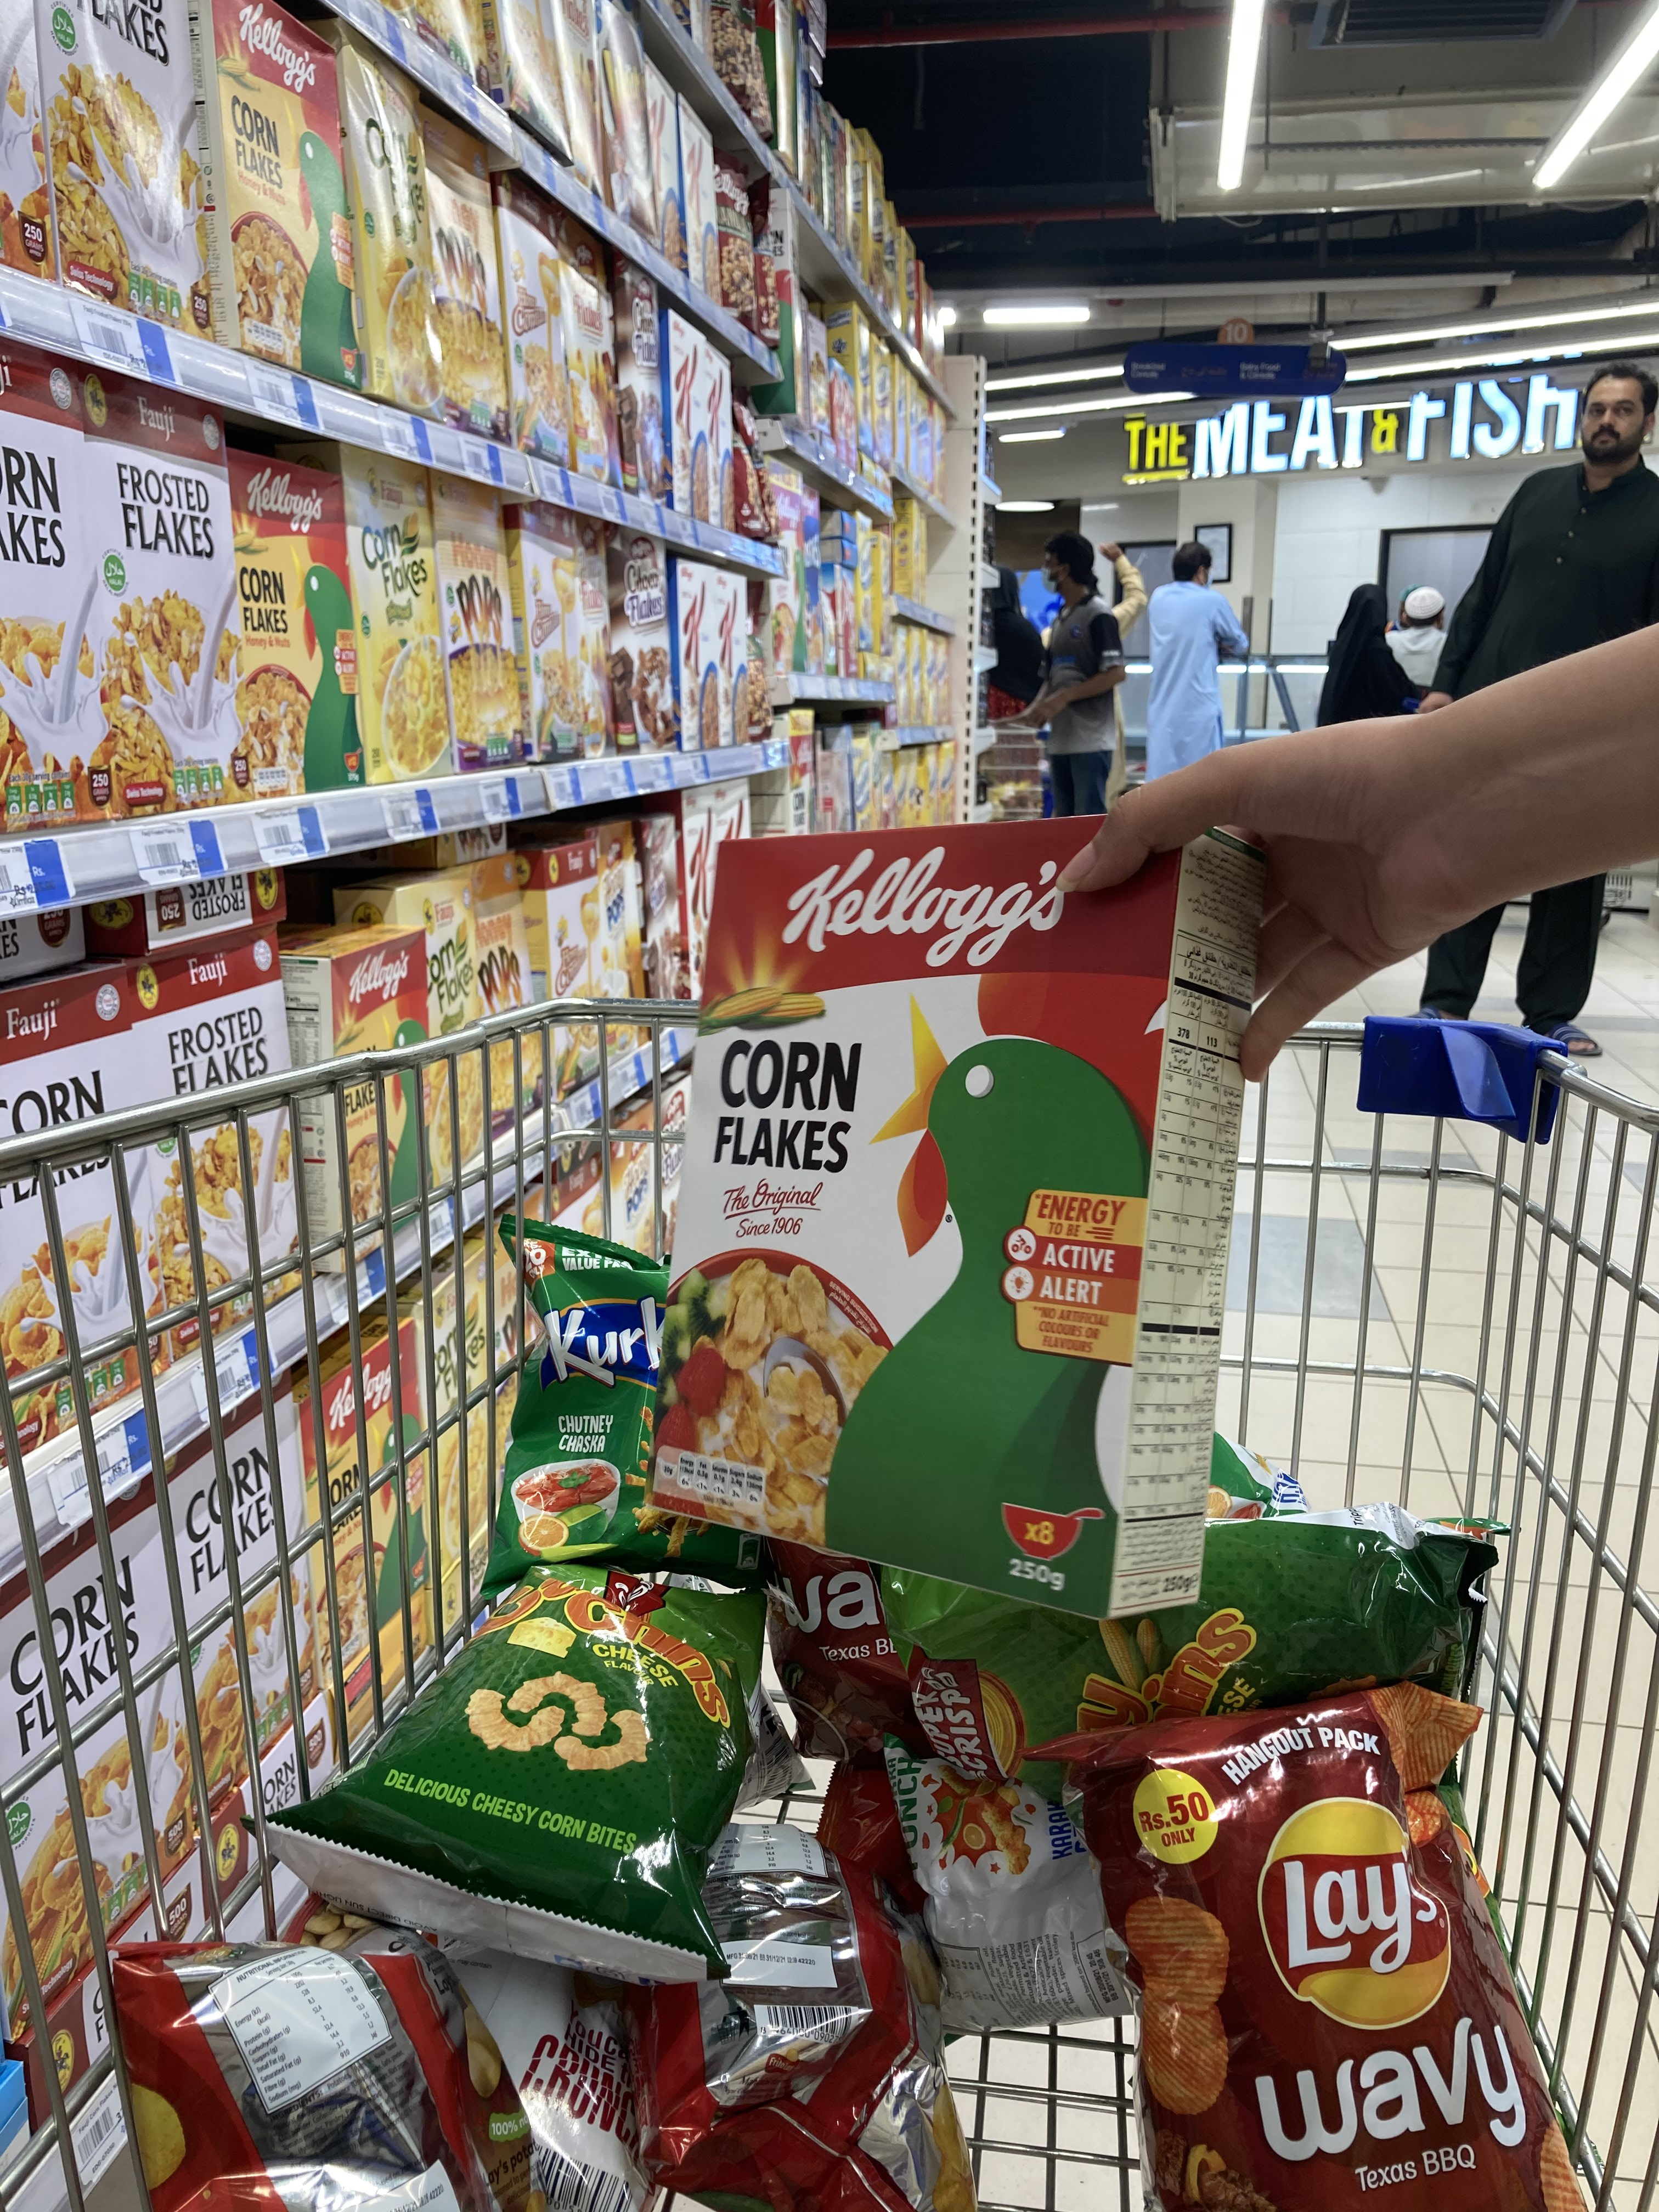Kellogg's Corn Flakes: (650, 819, 1274, 1616)
